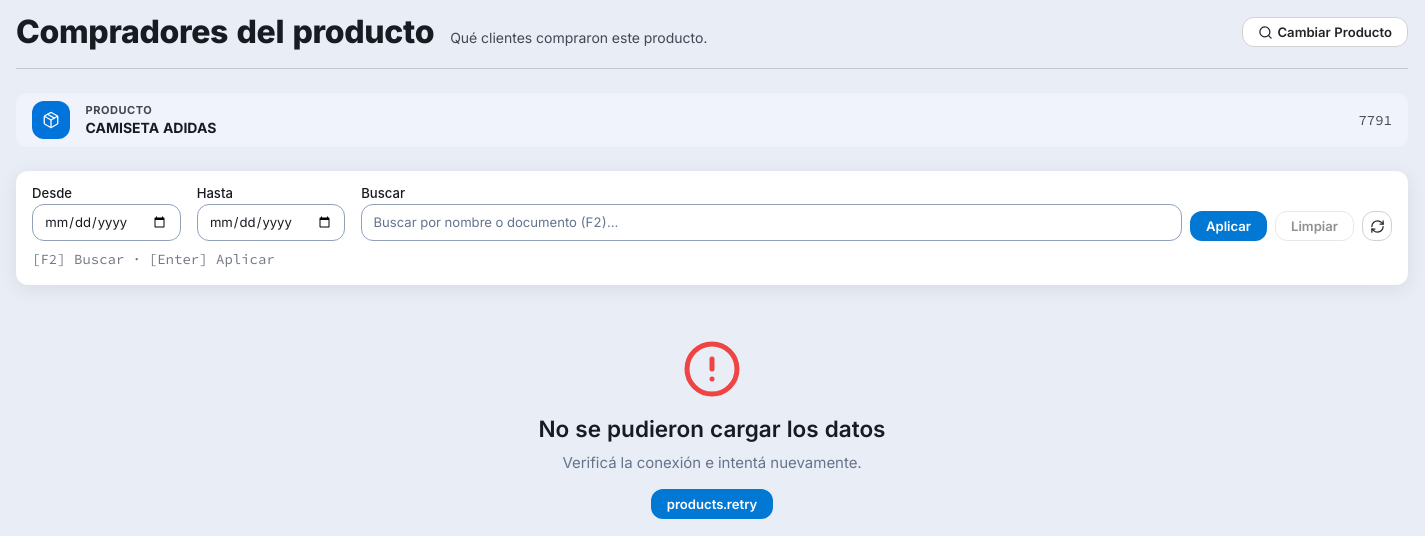
ProductBuyersPage (F3) › error muestra el estado y Reintentar refetcha
Expected: the heading "No se pudieron cargar los datos" is shown, [538,415,885,442]
Click the button with test id "error-retry": click(712, 504) [651,489,773,519]
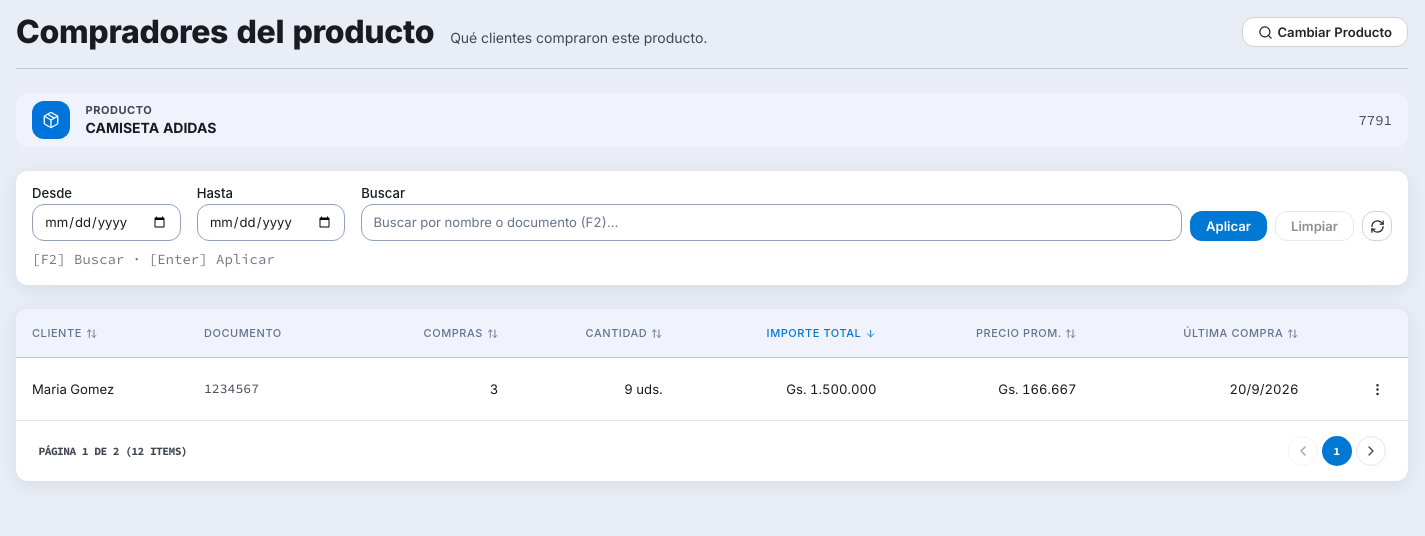
Expected: the text "Maria Gomez" is shown, [16,358,188,420]
